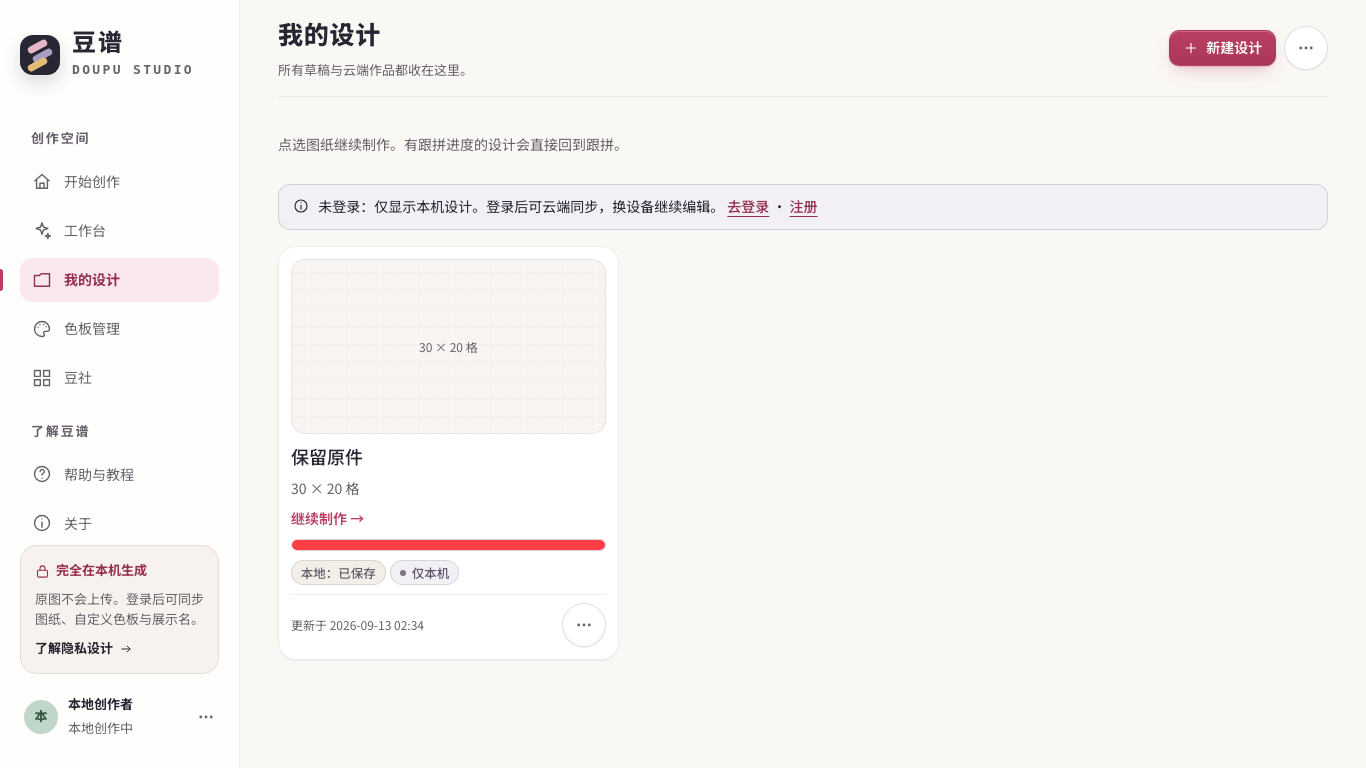
Test: DesignsView › 打开时本地读取失败不会下载覆盖或跳入空白工作台
The width and height of the screenshot is (1366, 768).
Click the button with aria-label "继续制作：保留原件".
click(448, 395)  # box top-left (291, 259), bottom-right (606, 530)
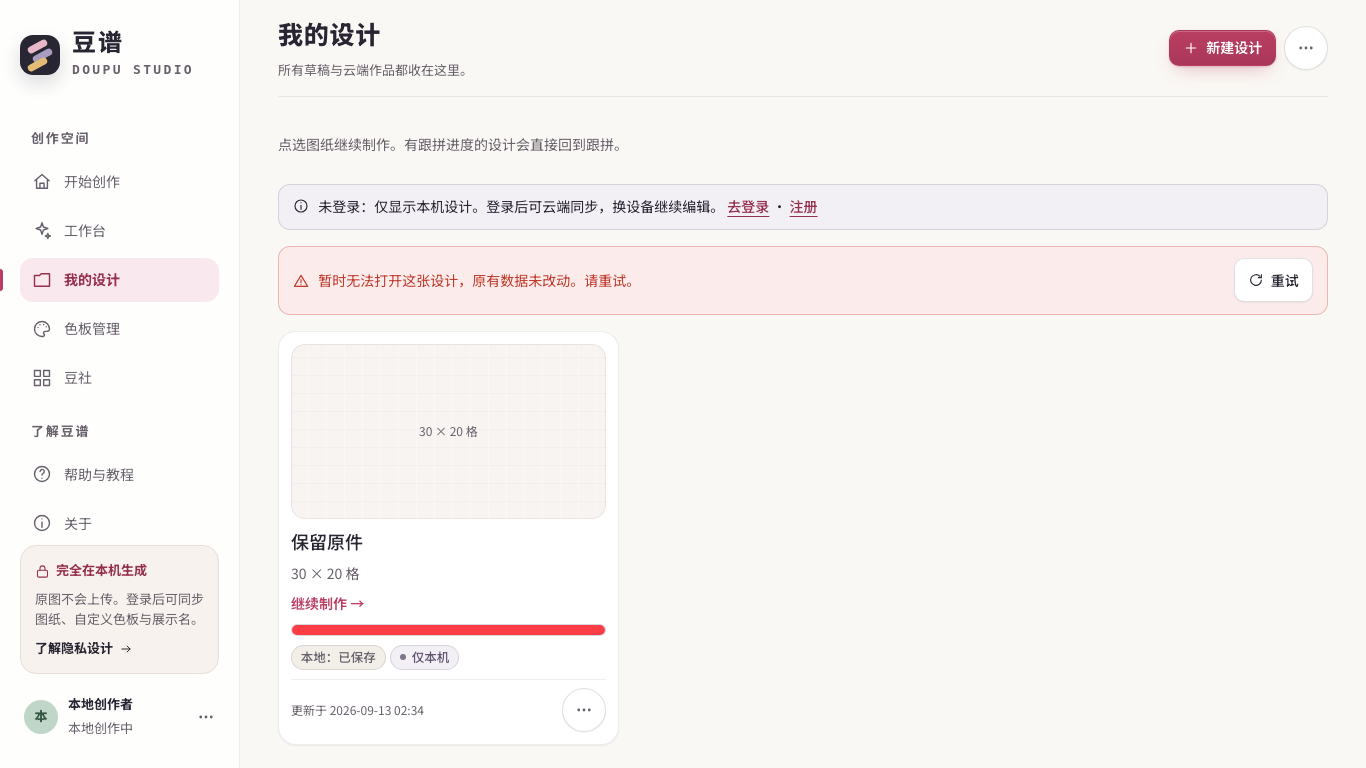
Now the text "暂时无法打开这张设计，原有数据未改动。请重试。" is shown, box top-left (318, 272), bottom-right (640, 288)
